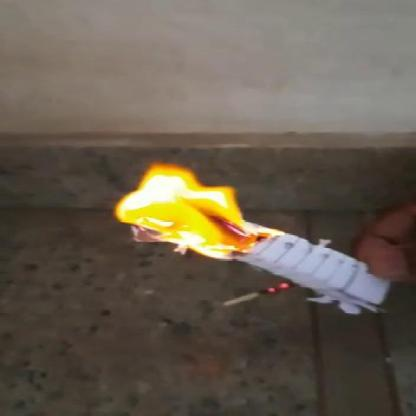Fire: (113, 156, 256, 259)
